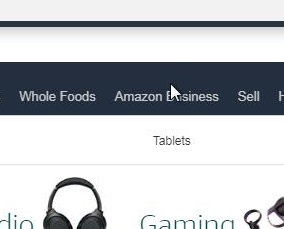cursor: (168, 82, 183, 103)
